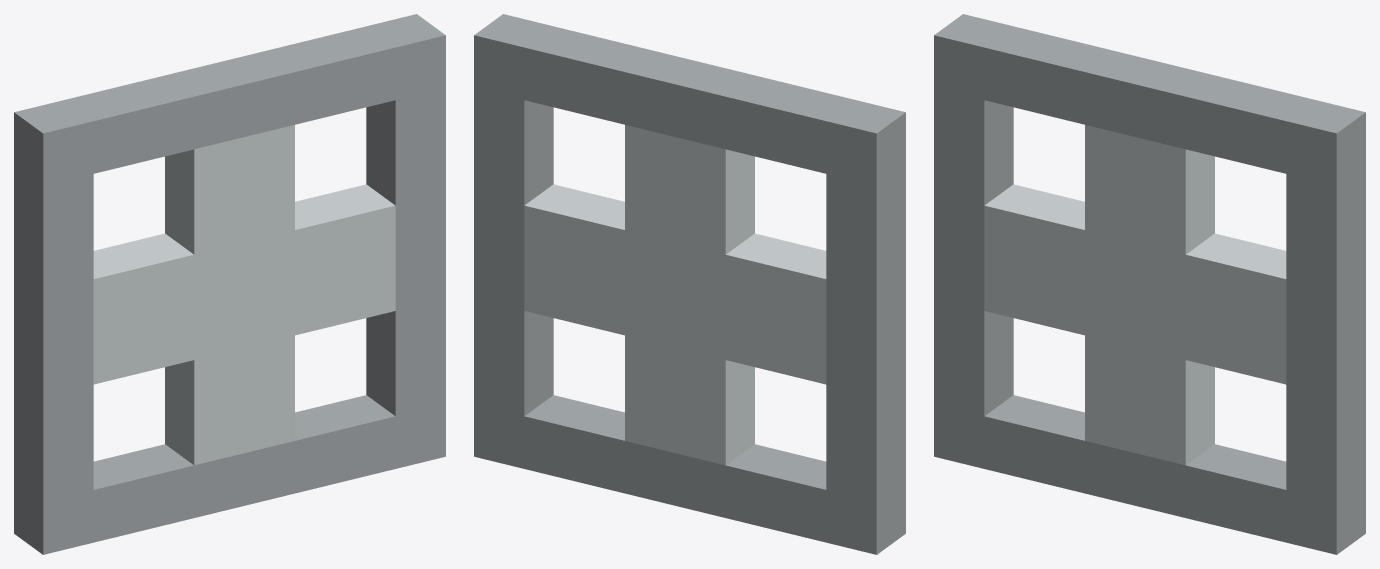
File: Iron Trapdoor.glb
3 renders of one model, left to right at view 1: azimuth 30°, elevation 25°; view 2: azimuth 150°, elevation 25°; view 3: azimuth 330°, elevation 25°, orthographic.
Visible parts, largest first — view 1: generated(Clone); view 2: generated(Clone); view 3: generated(Clone).
Boxes of the visible parts, bbox=[...] form: generated(Clone): bbox=[14, 14, 445, 554]; generated(Clone): bbox=[474, 14, 905, 554]; generated(Clone): bbox=[934, 14, 1365, 554].
Bounding box in the file's own units: 8 × 8 × 1.
1 material, 1 textured.
